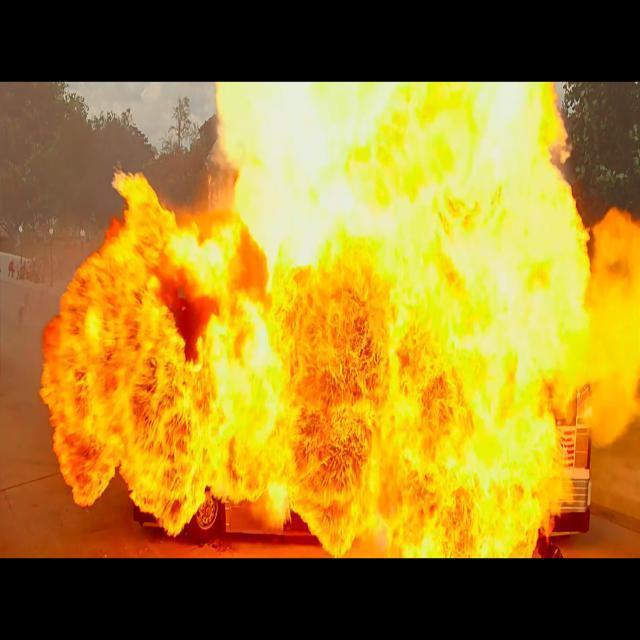fire: (36, 80, 640, 559)
